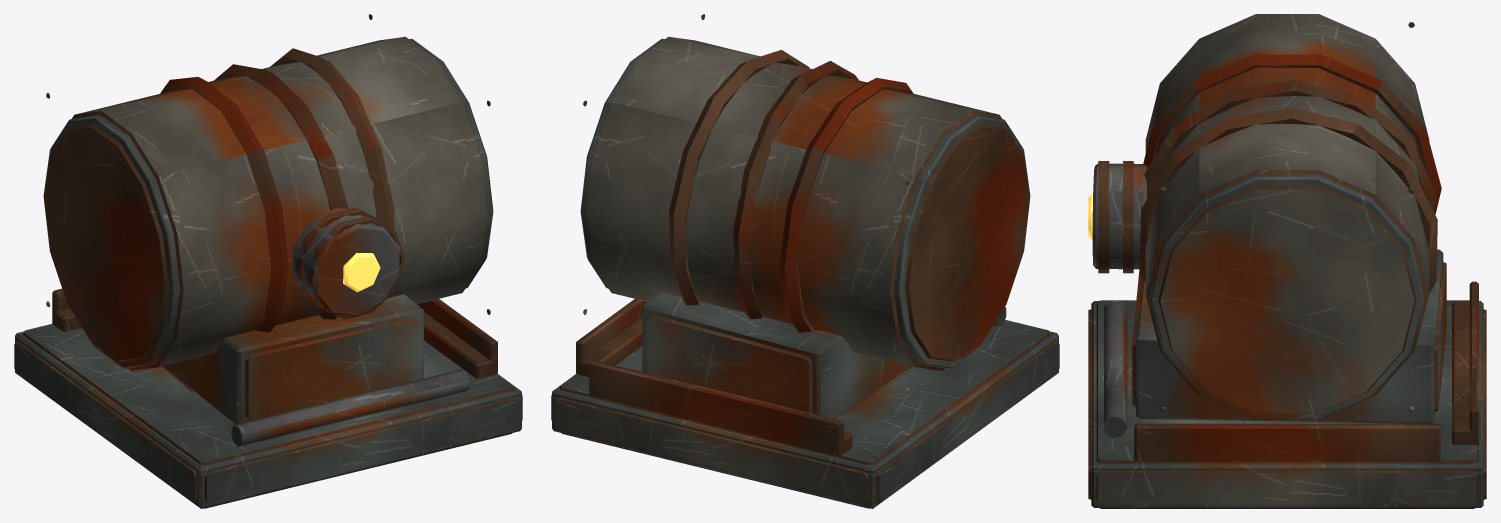
The model's file is R4X_DrivePower.glb.
The picture shows the model from 3 angles, left to right: view 1: azimuth 30°, elevation 25°; view 2: azimuth 150°, elevation 25°; view 3: azimuth 270°, elevation 25°; orthographic projection. The views are drawn at different scales.
Visible parts, largest first — view 1: R4X_DrivePower_Body; view 2: R4X_DrivePower_Body; view 3: R4X_DrivePower_Body.
Part boxes in pixels (bbox=[...]): R4X_DrivePower_Body: bbox=[14, 14, 522, 508]; R4X_DrivePower_Body: bbox=[551, 14, 1059, 508]; R4X_DrivePower_Body: bbox=[1088, 14, 1486, 508].
Size of the model in its own units: 0.52 by 0.504 by 0.52.
5 materials, 4 textured.
